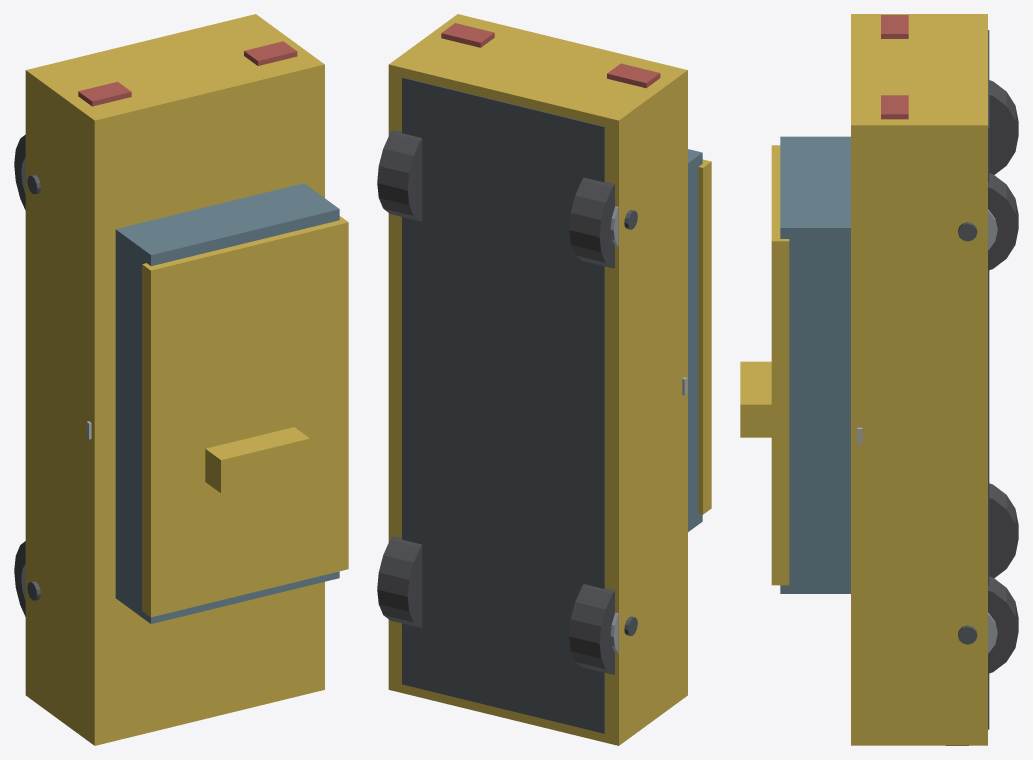
File: taxi_sedan.glb
3 renders of one model, left to right at view 1: azimuth 30°, elevation 25°; view 2: azimuth 150°, elevation 25°; view 3: azimuth 270°, elevation 25°, orthographic.
Visible parts, largest first — view 1: 0000_Car_body, 0003_Roof, 0002_Cabin_glass, 0024_Taxi_roof_sign, 0009_Tail_lamp, 0007_Tail_lamp; view 2: 0001_Chassis_black, 0000_Car_body, 0003_Roof, 0002_Cabin_glass, 0015_Wheel_tire, 0021_Wheel_tire, 0012_Wheel_tire, 0018_Wheel_tire, 0007_Tail_lamp, 0009_Tail_lamp; view 3: 0000_Car_body, 0002_Cabin_glass, 0003_Roof, 0024_Taxi_roof_sign, 0012_Wheel_tire, 0018_Wheel_tire, 0021_Wheel_tire, 0015_Wheel_tire, 0001_Chassis_black, 0009_Tail_lamp, 0007_Tail_lamp.
Boxes of the visible parts, x1,y1,x2,y2 form: 0000_Car_body: (25, 14, 324, 745); 0003_Roof: (142, 216, 348, 617); 0002_Cabin_glass: (115, 183, 339, 623); 0024_Taxi_roof_sign: (205, 427, 309, 493); 0009_Tail_lamp: (244, 41, 297, 65); 0007_Tail_lamp: (78, 81, 131, 106); 0001_Chassis_black: (402, 77, 604, 733); 0000_Car_body: (388, 14, 687, 745); 0003_Roof: (698, 159, 711, 514); 0002_Cabin_glass: (688, 149, 702, 531); 0015_Wheel_tire: (377, 536, 422, 627); 0021_Wheel_tire: (377, 130, 422, 221); 0012_Wheel_tire: (569, 584, 614, 674); 0018_Wheel_tire: (569, 177, 614, 268); 0007_Tail_lamp: (607, 63, 660, 88); 0009_Tail_lamp: (441, 23, 494, 47); 0000_Car_body: (851, 14, 987, 745); 0002_Cabin_glass: (780, 136, 850, 593); 0003_Roof: (771, 145, 789, 585); 0024_Taxi_roof_sign: (740, 361, 771, 437); 0012_Wheel_tire: (989, 483, 1018, 578); 0018_Wheel_tire: (989, 80, 1018, 174); 0021_Wheel_tire: (988, 173, 1018, 270); 0015_Wheel_tire: (988, 576, 1018, 673); 0001_Chassis_black: (988, 30, 989, 729); 0009_Tail_lamp: (881, 95, 908, 119); 0007_Tail_lamp: (881, 15, 908, 38).
Bounding box in the file's own units: 1.87 × 4.8 × 1.91.
